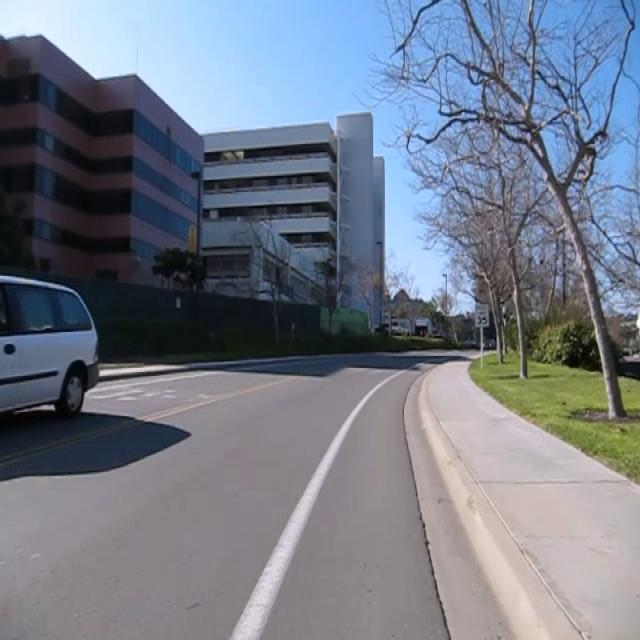speedLimit35: (473, 301, 489, 328)
